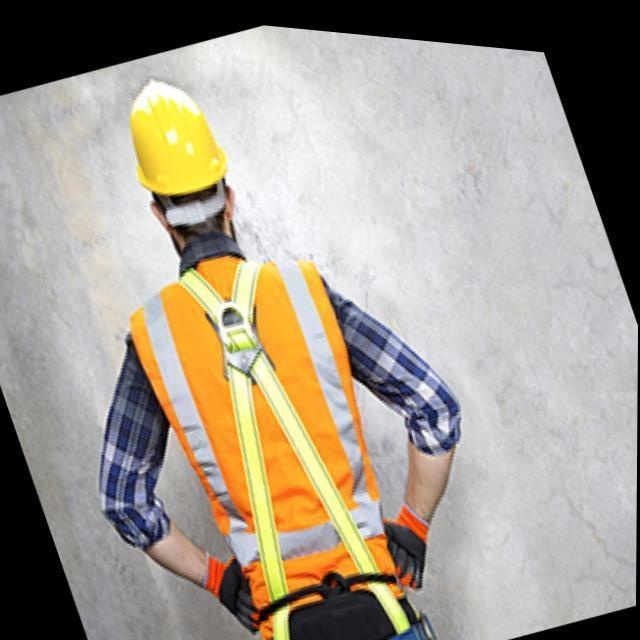Arnes_seguridad: (174, 256, 441, 639)
